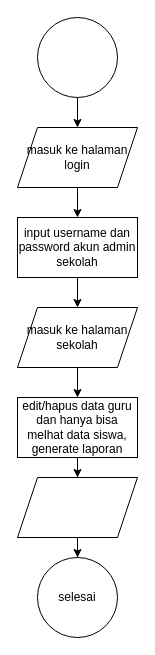
Some shapes in this 155 by 655 pixel diagram are drawn without their labels. The box of each missing label's shape, as (x1, y1, x2, y2) in pixels:
logout: (16, 476, 138, 538)
mulai: (36, 16, 118, 98)
